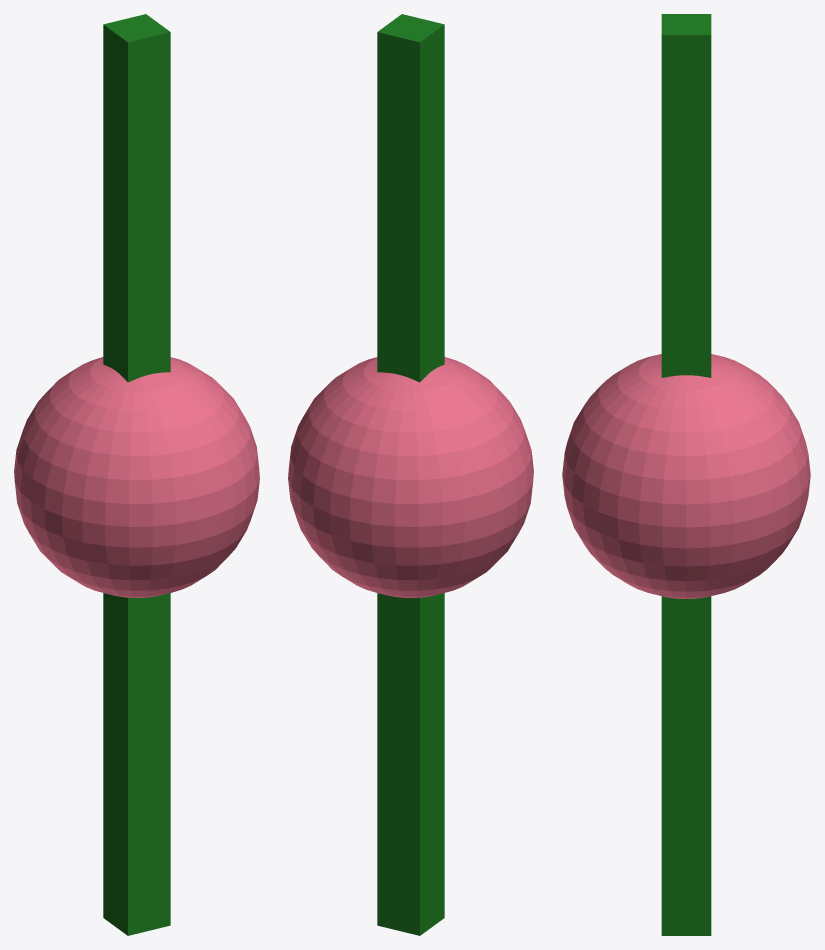
File: slider.gltf
3 renders of one model, left to right at view 1: azimuth 30°, elevation 25°; view 2: azimuth 150°, elevation 25°; view 3: azimuth 270°, elevation 25°, orthographic.
Parts seen in each view (by area): view 1: Path, slider; view 2: Path, slider; view 3: slider, Path.
Boxes of the visible parts, x1,y1,x2,y2 form: Path: [103, 14, 170, 935]; slider: [14, 357, 259, 597]; Path: [377, 14, 444, 935]; slider: [288, 357, 533, 597]; slider: [562, 354, 810, 598]; Path: [661, 14, 711, 935].
Size of the model in its own units: 0.5 by 2 by 0.5.
